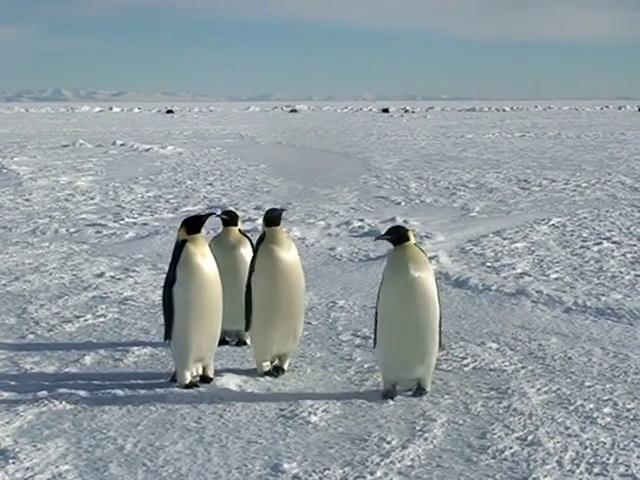animal: (374, 225, 440, 398)
